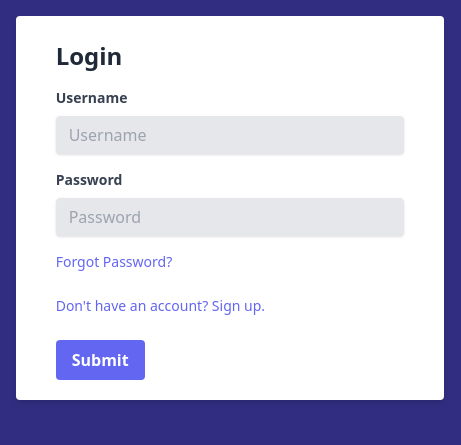
Test: username field required error shows when username field is missing when submit button is clicked
The image size is (461, 445).
// Click the submit button without entering a username
Click the button "Submit" at (100, 360), box [56, 340, 145, 380]
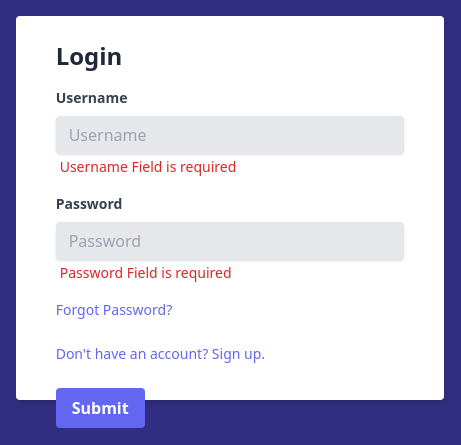
Result: the text "Username Field is required" is shown at [56, 153, 240, 180]
